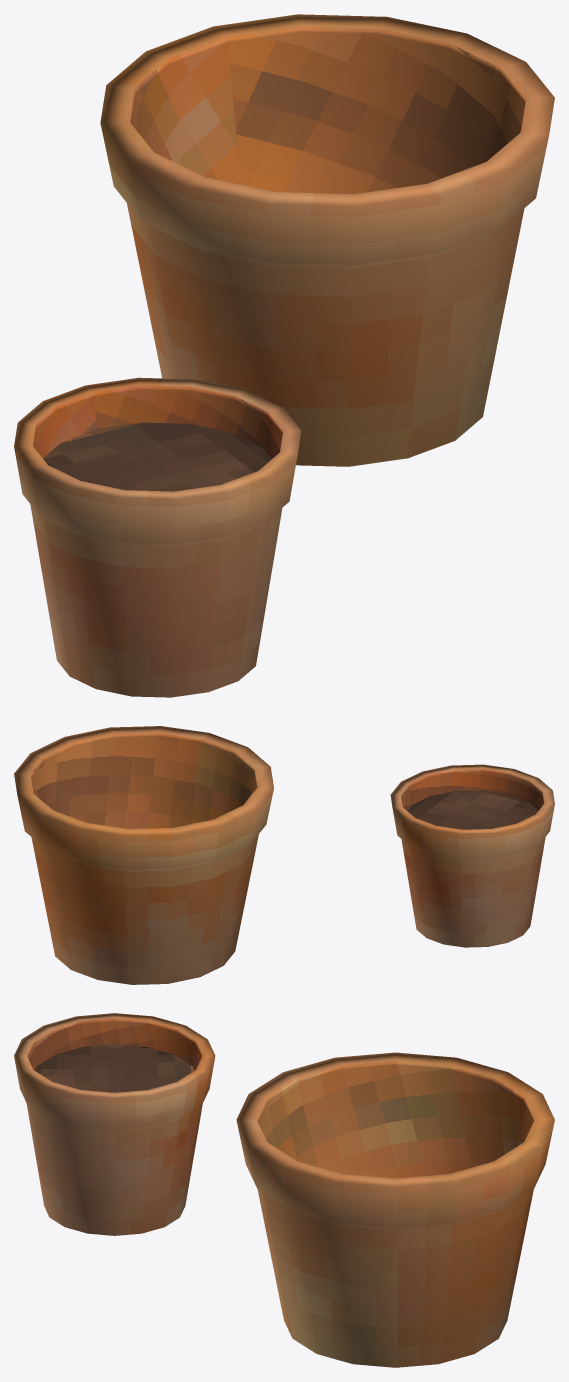
Rendered from objects_un_t01flowerpots10.gltf.
The picture shows the model from 3 angles, top to bottom: view 1: azimuth 30°, elevation 25°; view 2: azimuth 150°, elevation 25°; view 3: azimuth 270°, elevation 25°; orthographic projection. The views are drawn at different scales.
Visible parts, largest first — view 1: objects_un_t01flowerpots10_mesh_shape:objects_un_t01flowerpo (×2); view 2: objects_un_t01flowerpots10_mesh_shape:objects_un_t01flowerpo (×2); view 3: objects_un_t01flowerpots10_mesh_shape:objects_un_t01flowerpo (×2).
Part boxes in pixels (left/top/right/bottom): objects_un_t01flowerpots10_mesh_shape:objects_un_t01flowerpo (×2): left=14, top=14, right=554, bottom=697; objects_un_t01flowerpots10_mesh_shape:objects_un_t01flowerpo (×2): left=14, top=726, right=554, bottom=984; objects_un_t01flowerpots10_mesh_shape:objects_un_t01flowerpo (×2): left=14, top=1013, right=554, bottom=1367.
Size of what is drawn, in the model's own units: 0.7741 by 0.3249 by 0.7498.
Materials: 2 (2 with a texture image).
